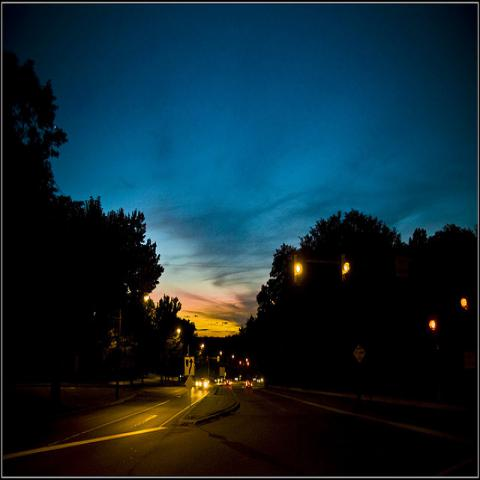car: (250, 374, 266, 390), (195, 378, 210, 388), (245, 380, 253, 390), (214, 375, 224, 382)
